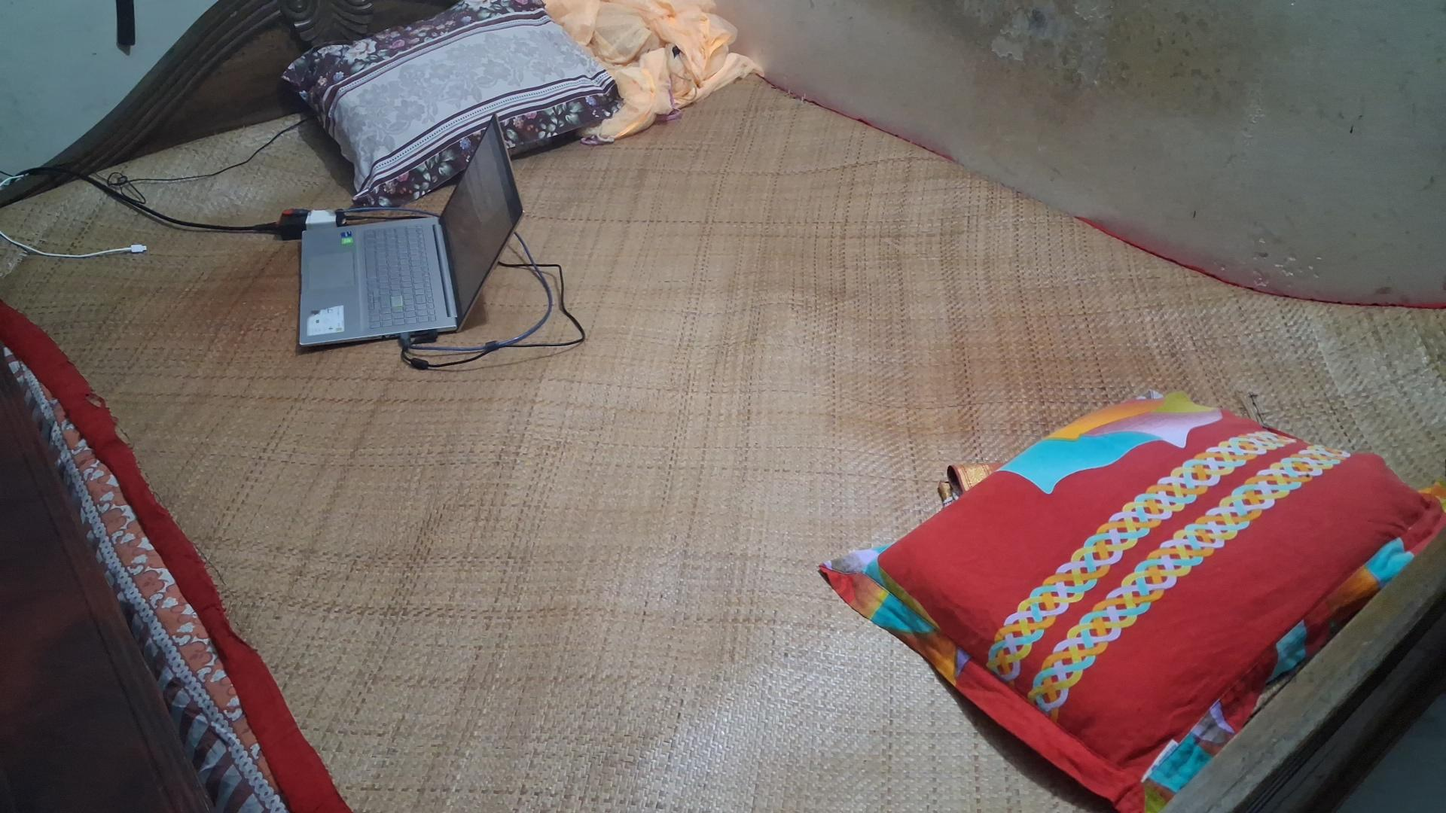Laptop: (296, 116, 525, 352)
Pillow: (825, 388, 1446, 813), (282, 0, 625, 216)
